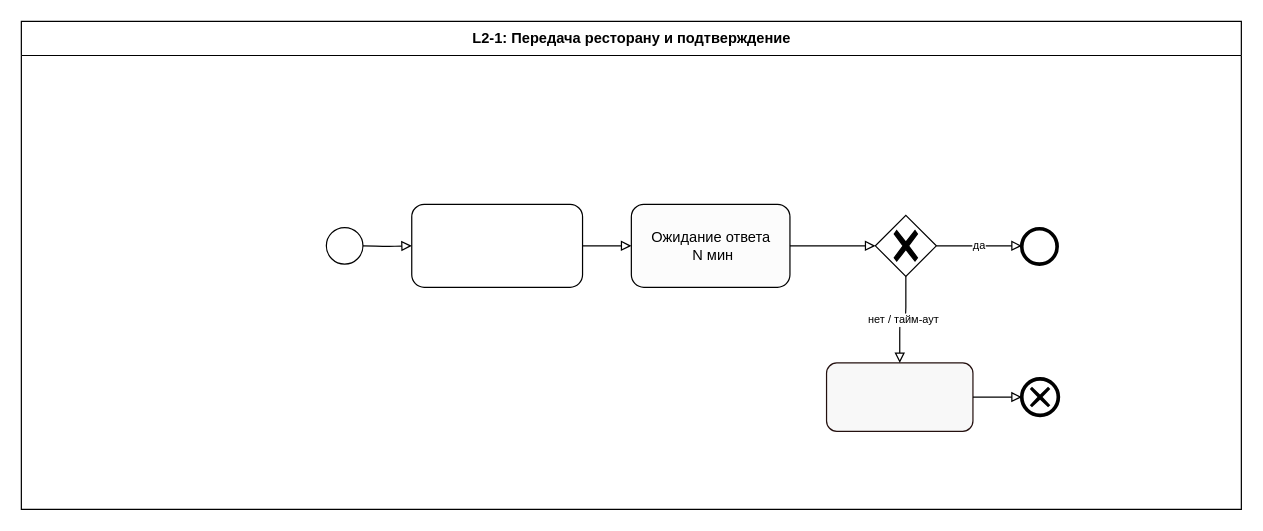
Some shapes in this 1263 by 531 pixel diagram are drawn without their labels. The shapes that lost their labels are listed below. From the top down, each one's centre as x and y in pixels, then its label:
At point (497, 245): "Отправка заказа в кабинет ресторана".
At point (899, 396): "Уведомление, отмена, возврат".
